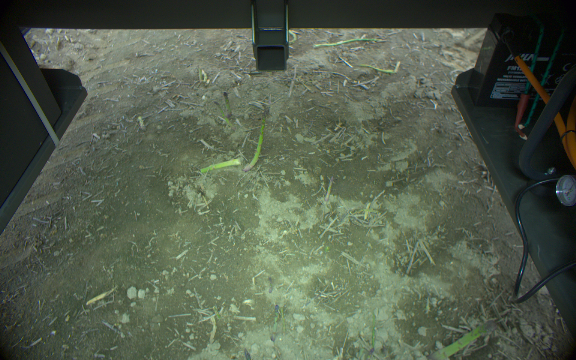aspa: (426, 318, 499, 360), (244, 108, 269, 173), (313, 37, 387, 48), (212, 100, 235, 131), (199, 158, 241, 173), (354, 61, 394, 74), (222, 91, 230, 112)
